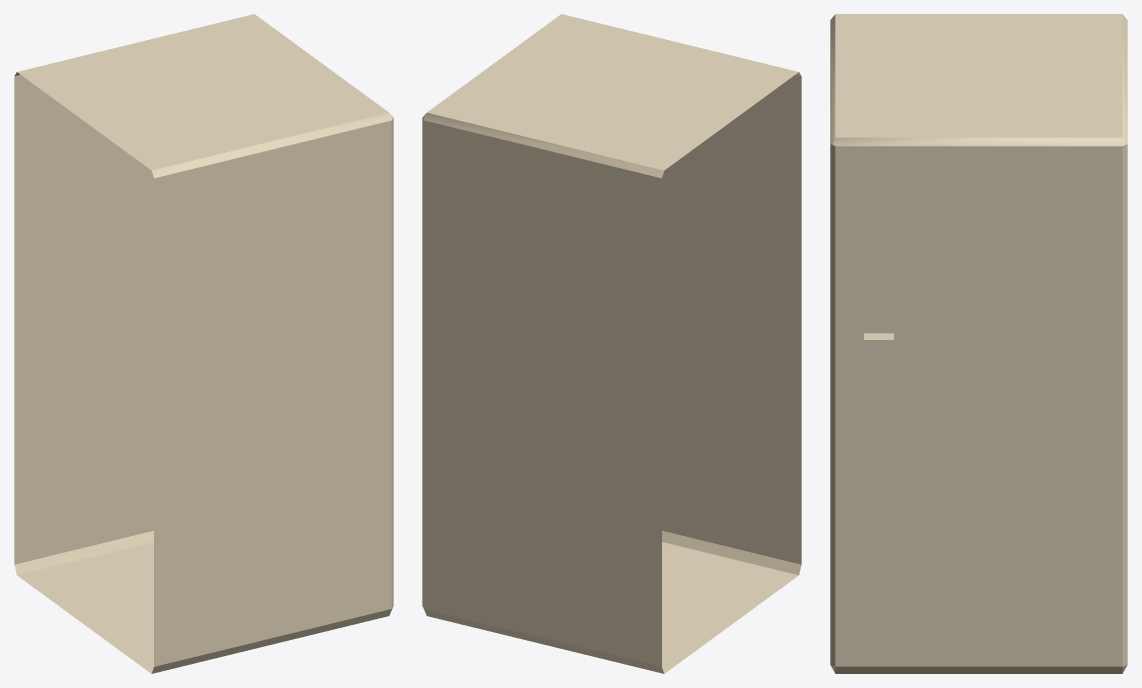
File: Fridge.fbx
The picture shows the model from 3 angles, left to right: view 1: azimuth 30°, elevation 25°; view 2: azimuth 150°, elevation 25°; view 3: azimuth 270°, elevation 25°; orthographic projection. The views are drawn at different scales.
Visible parts, largest first — view 1: Fridge; view 2: Fridge; view 3: Fridge.
Boxes of the visible parts, x1,y1,x2,y2 form: Fridge: [14, 14, 393, 673]; Fridge: [422, 14, 801, 673]; Fridge: [830, 14, 1127, 673].
Size of the model in its own units: 105 by 198 by 99.39.
